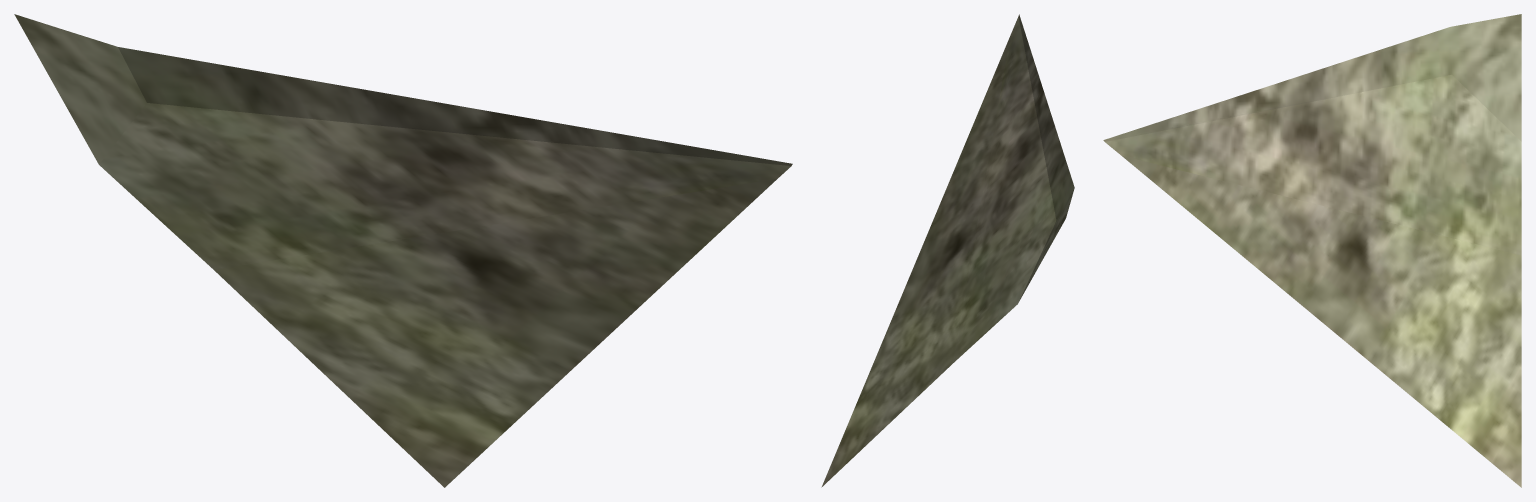
3 renders of one model, left to right at view 1: azimuth 30°, elevation 25°; view 2: azimuth 150°, elevation 25°; view 3: azimuth 270°, elevation 25°, orthographic. The views are drawn at different scales.
Bounding box in the file's own units: 1.28 × 1.64 × 1.79.
1 material, 1 textured.
